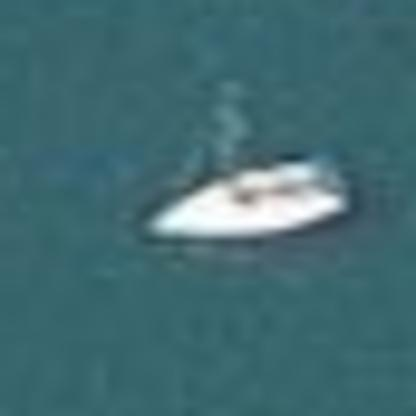ship: (136, 142, 362, 246)
